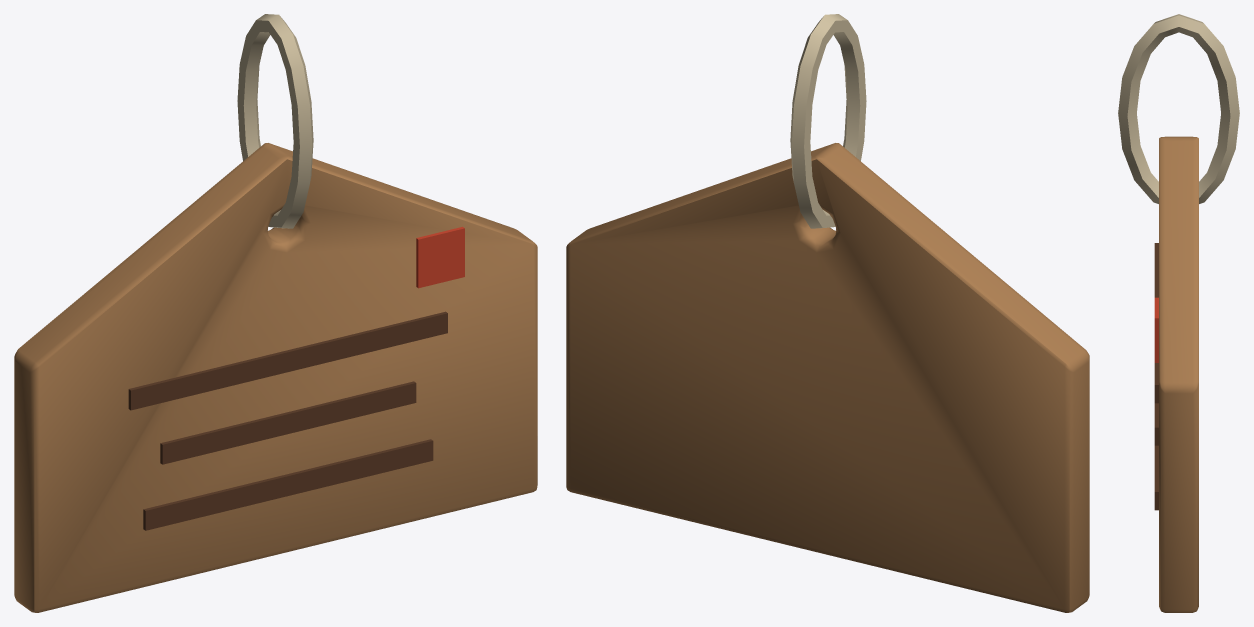
Rendered from ema_loose.glb.
The picture shows the model from 3 angles, left to right: view 1: azimuth 30°, elevation 25°; view 2: azimuth 150°, elevation 25°; view 3: azimuth 270°, elevation 25°; orthographic projection. The views are drawn at different scales.
Visible parts, largest first — view 1: ema_loose; view 2: ema_loose; view 3: ema_loose.
Boxes of the visible parts, x1,y1,x2,y2 form: ema_loose: (14, 14, 537, 612); ema_loose: (566, 14, 1089, 612); ema_loose: (1118, 14, 1239, 612).
Size of the model in its own units: 0.12 by 0.1201 by 0.0272.
